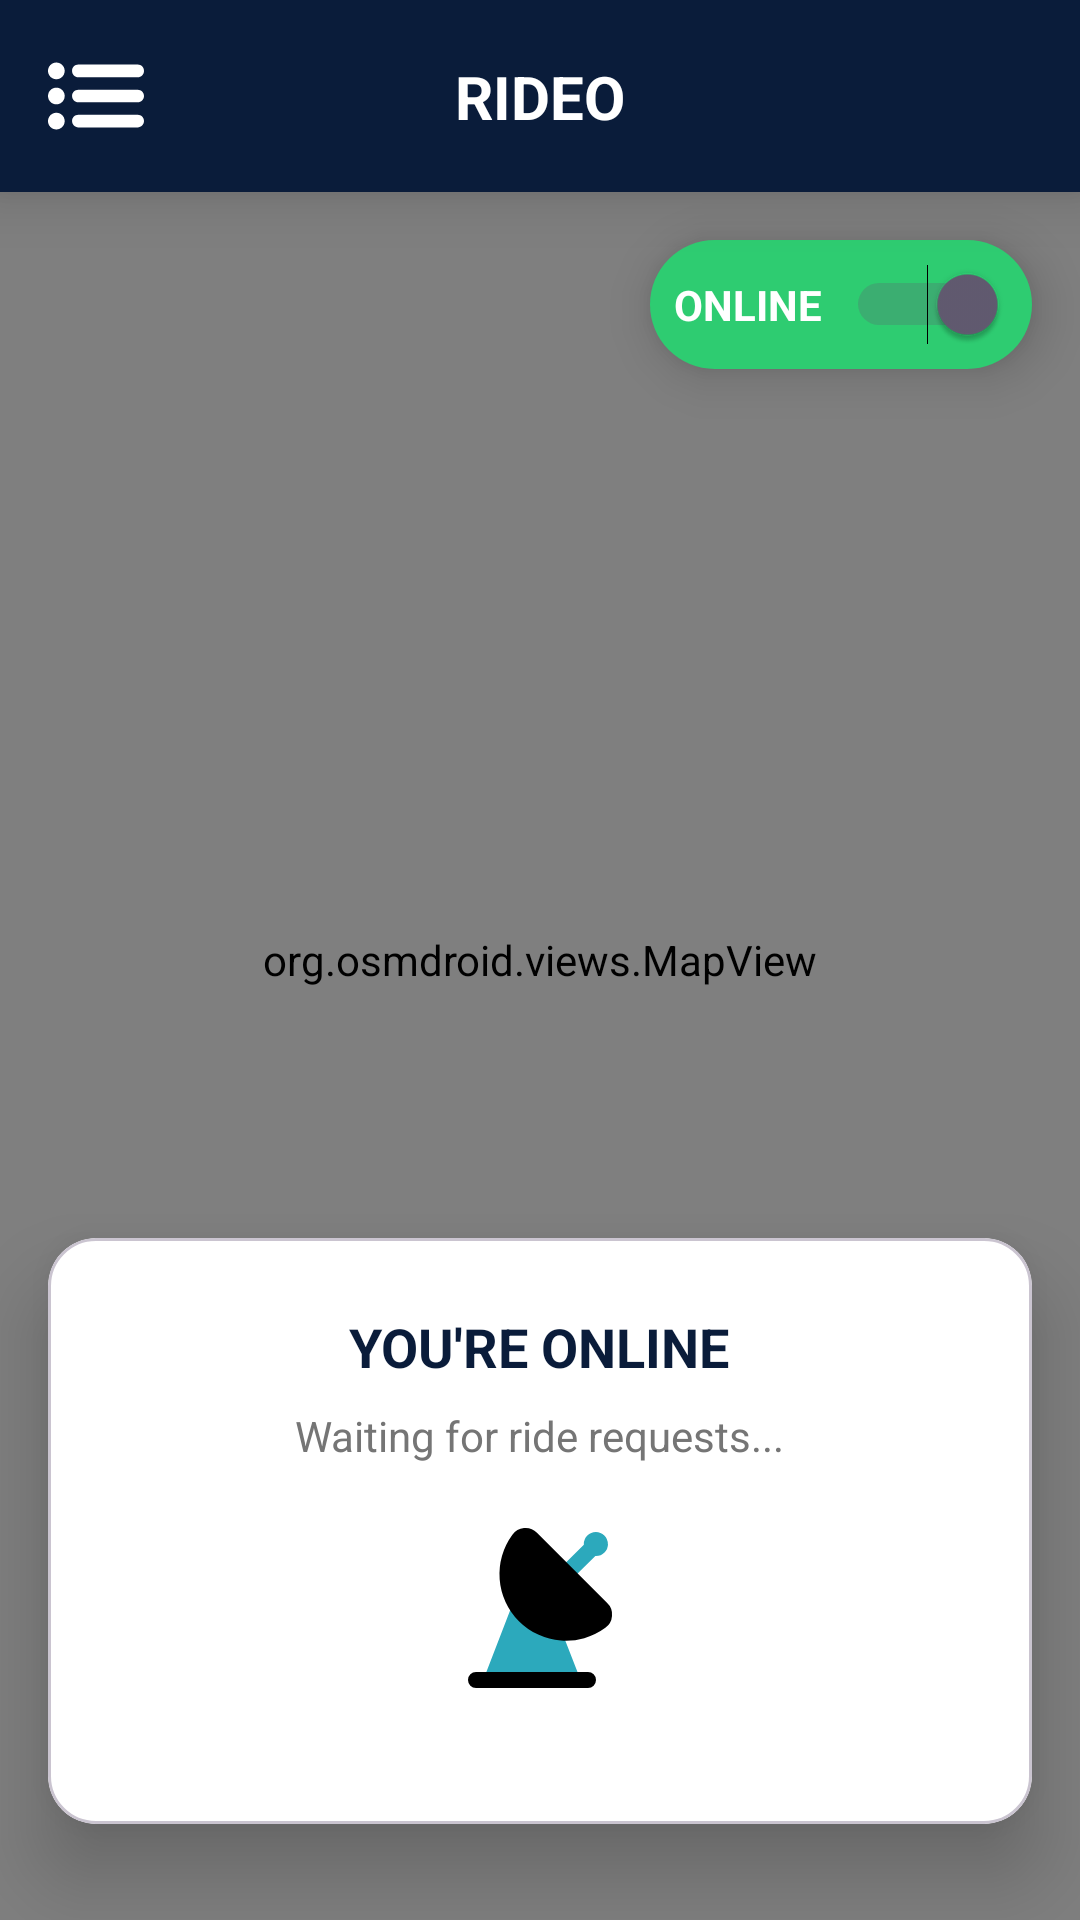

Icon bounding boxes for this 1080px x 1920px phone screenshot, format (x1, y1, x2, y2):
Menu: (48, 62, 144, 130)
